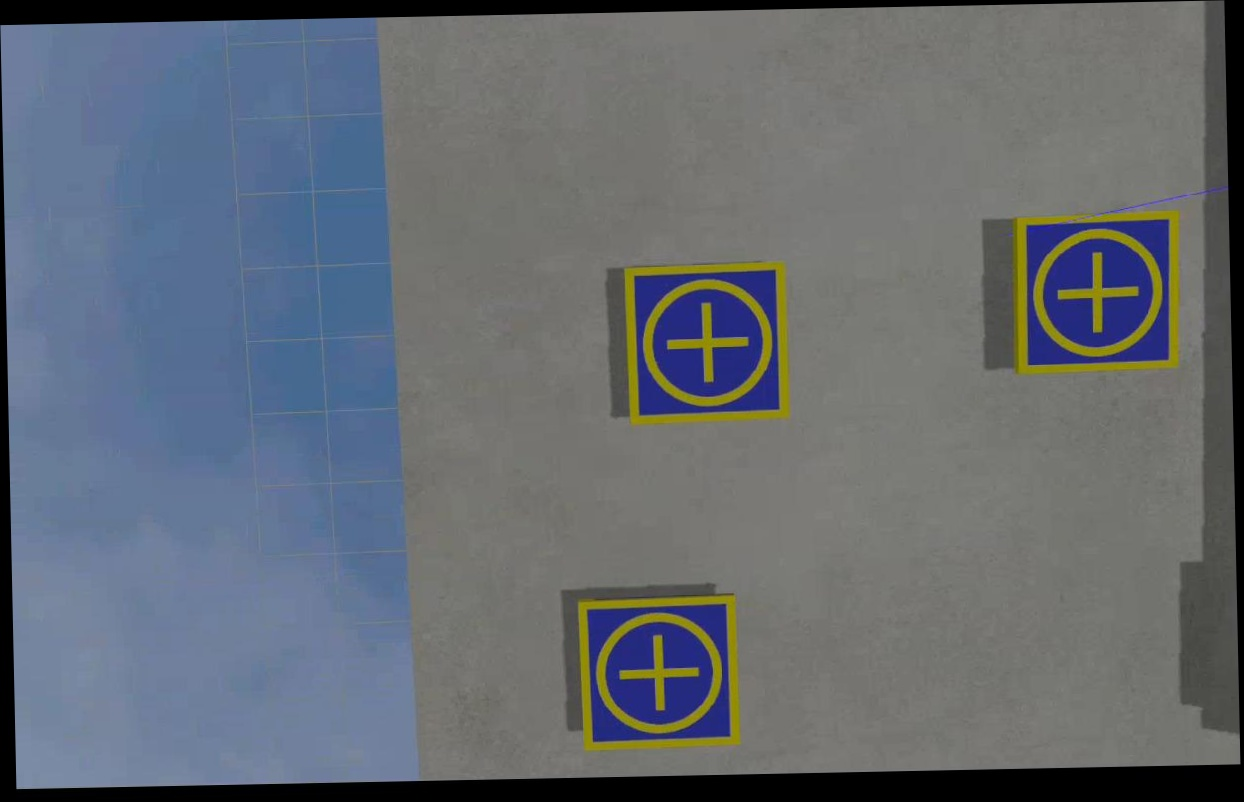small_base: (1011, 209, 1182, 377), (624, 262, 795, 429), (577, 593, 739, 753)
